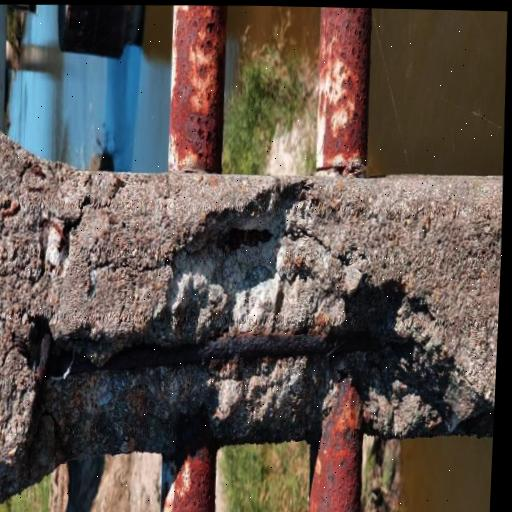exposed_rebar: (13, 318, 413, 447), (221, 230, 270, 249)
spalling: (41, 198, 495, 460)
